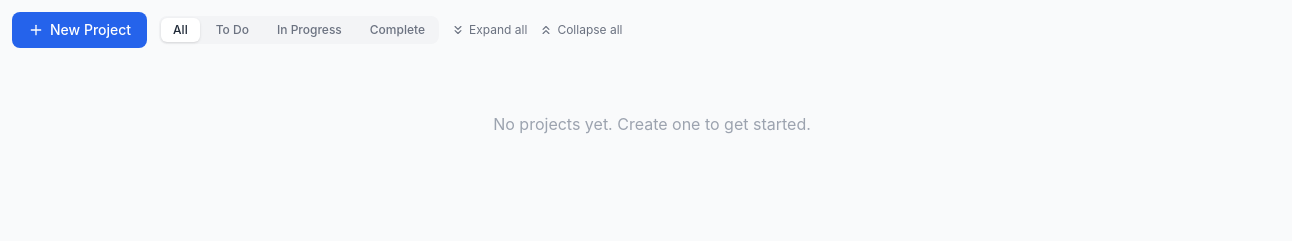
Test: TasksView › shows new project form when button clicked
The image size is (1292, 241).
Step 1. Click the button "New Project" → (80,30), box x1=12 y1=12 x2=147 y2=48
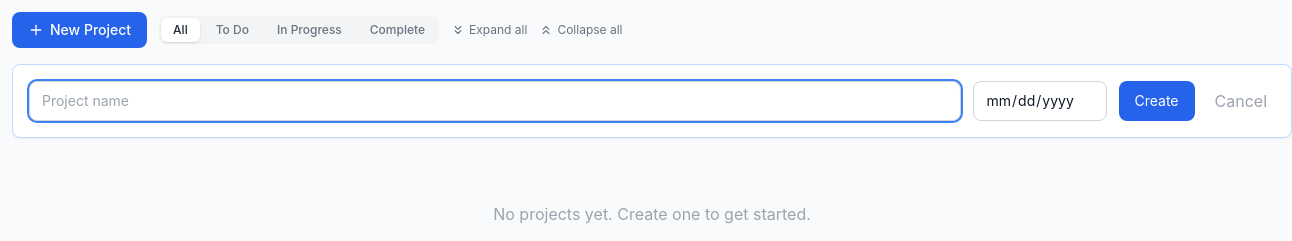
Now the field with placeholder "Project name" is shown, box x1=29 y1=81 x2=960 y2=121
